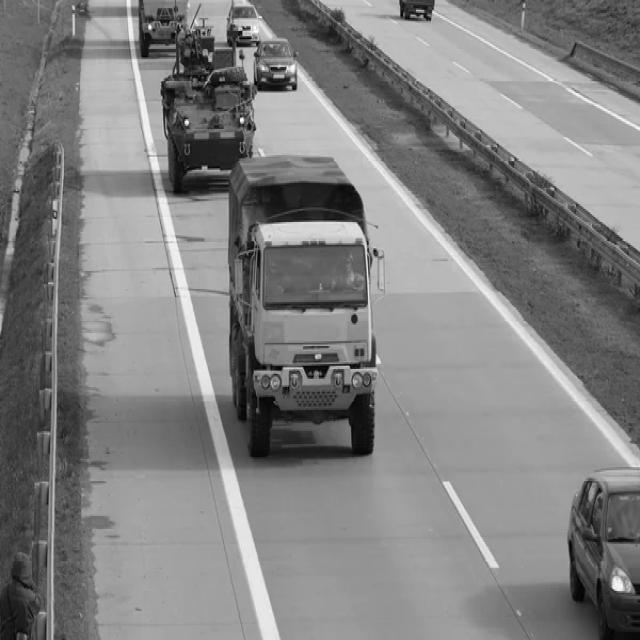Car: (563, 450, 640, 637), (252, 36, 300, 96), (228, 2, 264, 45)
Tank: (159, 15, 260, 185)
Truck: (227, 150, 390, 480)
